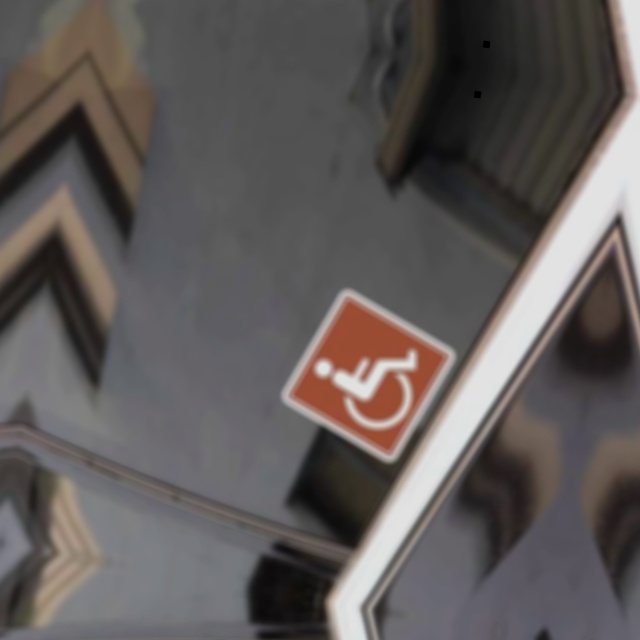ISA: (298, 327, 421, 433)
